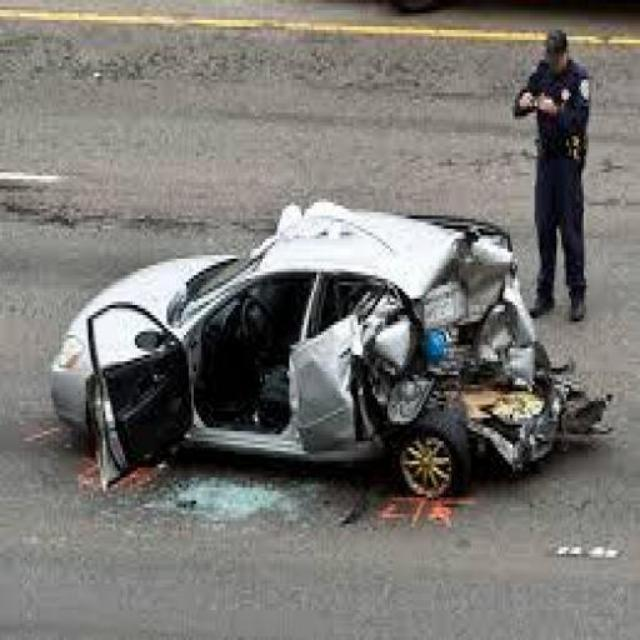crash: (278, 206, 618, 479)
